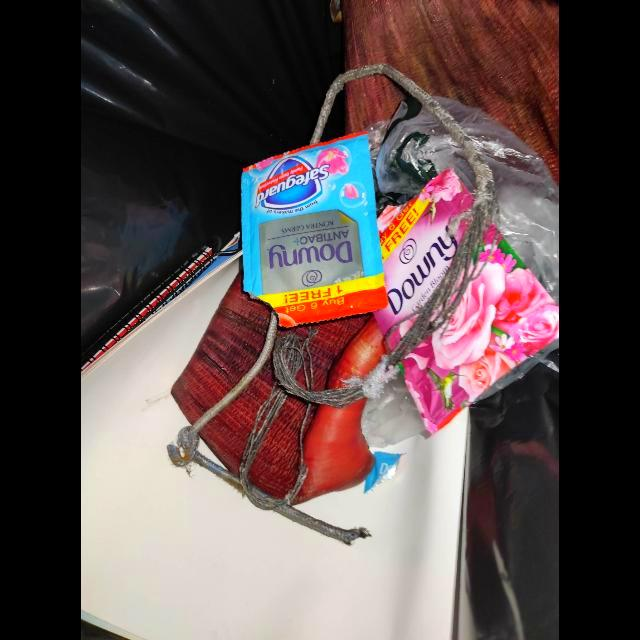cardboard: (81, 241, 472, 640)
plastic_bag: (433, 97, 560, 307), (399, 100, 476, 196)
plastic_sachet: (374, 179, 560, 435), (241, 132, 388, 331)
